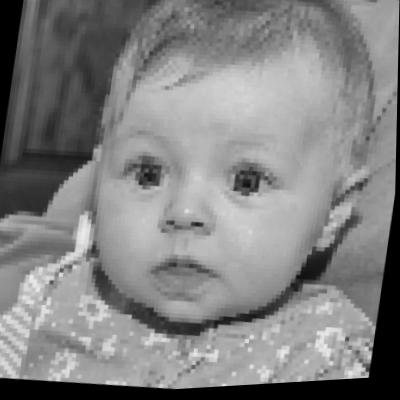surprise: (84, 41, 341, 331)
